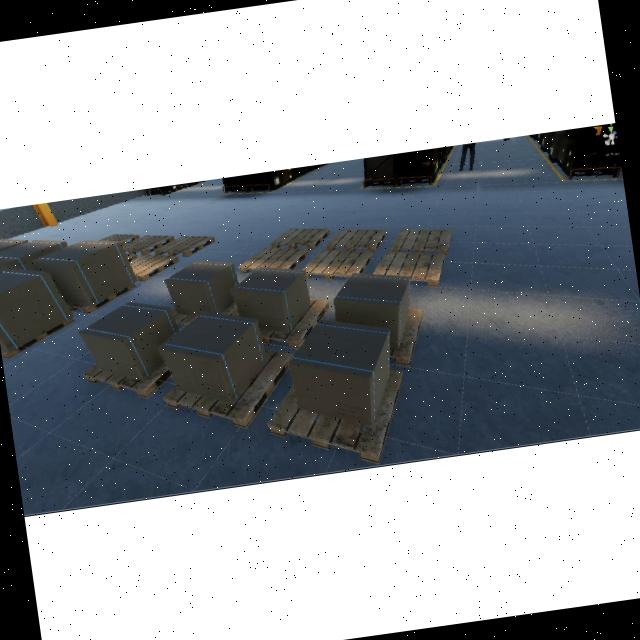wooden_pallet: (267, 369, 404, 466), (162, 349, 294, 430), (258, 298, 330, 351), (83, 358, 170, 398), (373, 252, 446, 286), (69, 282, 137, 314), (302, 251, 374, 279), (388, 310, 422, 367), (238, 247, 310, 273), (390, 229, 453, 255), (326, 229, 388, 254), (129, 254, 180, 281), (154, 235, 216, 257), (272, 228, 331, 249), (122, 235, 174, 255)
